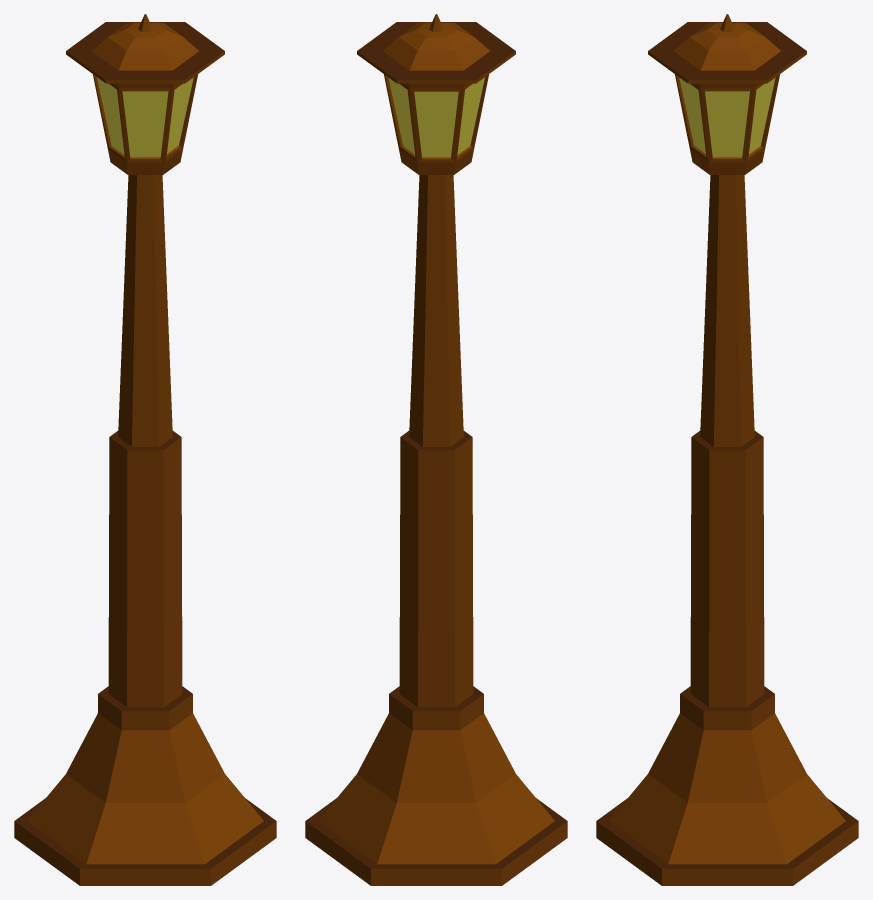
The model's file is bandera 2.fbx.
3 views of the same model, side by side, from view 1: azimuth 30°, elevation 25°; view 2: azimuth 150°, elevation 25°; view 3: azimuth 270°, elevation 25° (orthographic).
Parts seen in each view (by area): view 1: Cylinder; view 2: Cylinder; view 3: Cylinder.
Boxes of the visible parts, x1,y1,x2,y2 form: Cylinder: (14, 14, 276, 885); Cylinder: (305, 14, 567, 885); Cylinder: (596, 14, 858, 885).
Bounding box in the file's own units: 183 × 731 × 211.
